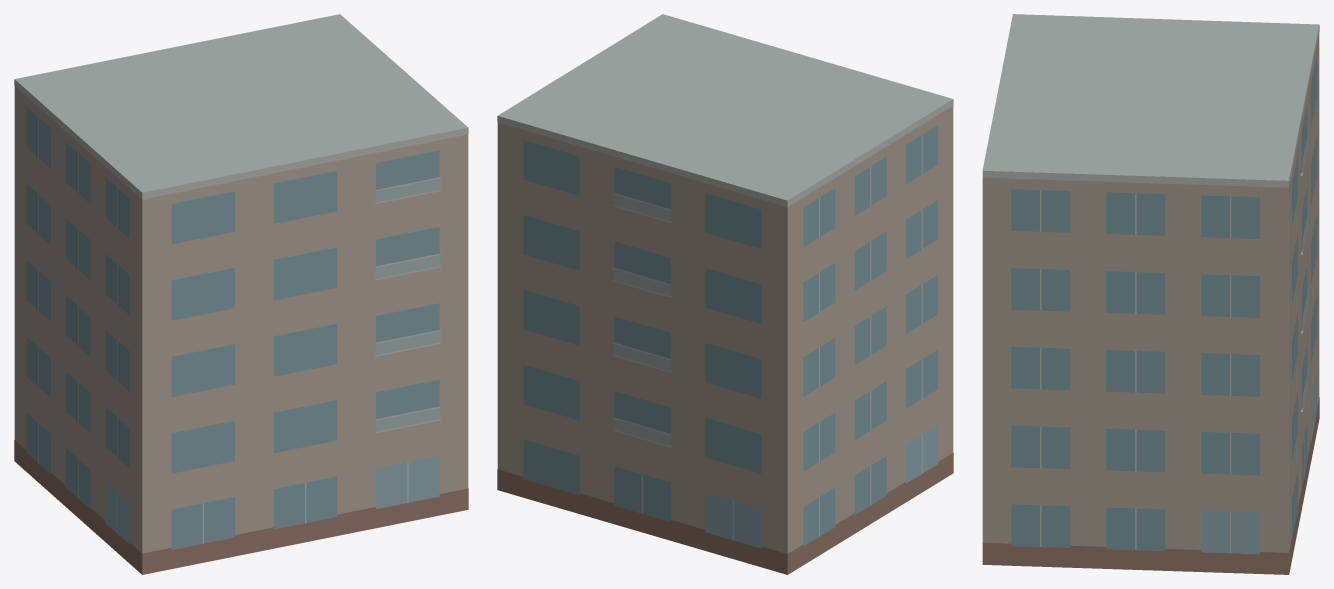
The model's file is survey-upis-32537828.glb.
3 renders of one model, left to right at view 1: azimuth 30°, elevation 25°; view 2: azimuth 150°, elevation 25°; view 3: azimuth 270°, elevation 25°, orthographic. The views are drawn at different scales.
Visible parts, largest first — view 1: survey-upis-32537828.tmp; view 2: survey-upis-32537828.tmp; view 3: survey-upis-32537828.tmp.
Part boxes in pixels (x1,y1,x2,y2): survey-upis-32537828.tmp: (14,14,468,574); survey-upis-32537828.tmp: (497,14,953,574); survey-upis-32537828.tmp: (982,14,1319,574).
Size of the model in its own units: 12.64 by 13.9 by 10.78.
